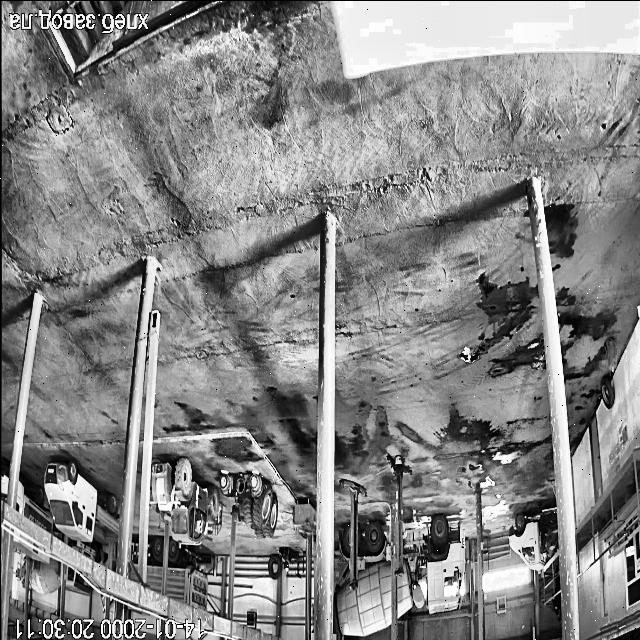class4: (552, 564, 560, 620)
class6: (151, 459, 222, 544), (220, 475, 277, 537)
class7: (396, 516, 464, 616), (334, 523, 392, 636), (44, 460, 119, 540), (166, 539, 207, 611), (508, 512, 557, 571), (16, 483, 52, 532), (29, 558, 60, 594), (146, 538, 163, 592), (12, 538, 48, 562), (66, 567, 92, 594), (70, 543, 104, 562), (130, 542, 140, 580), (0, 464, 8, 500), (16, 479, 24, 510), (20, 564, 24, 582)
truck: (340, 479, 366, 588), (388, 455, 411, 574)
